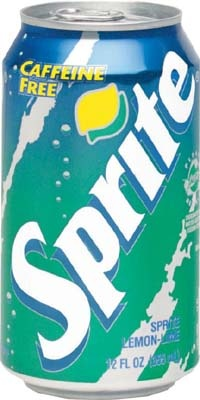grozi_55: (0, 1, 200, 400)
